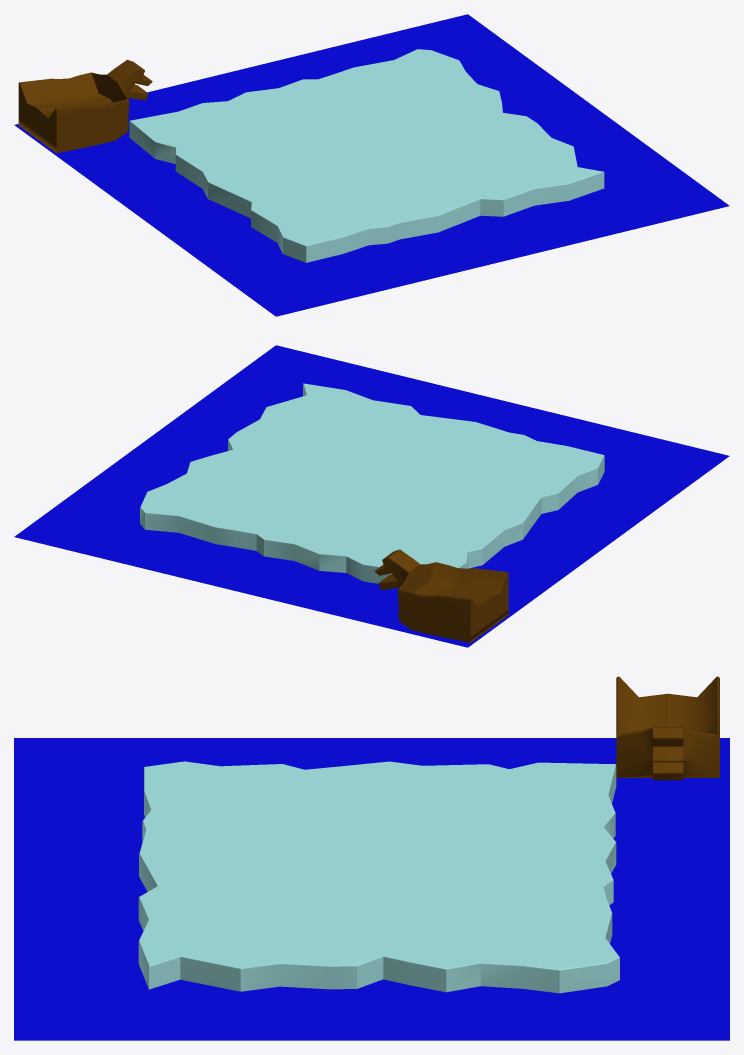
File: Ice_Level.fbx
3 views of the same model, one above another, from view 1: azimuth 30°, elevation 25°; view 2: azimuth 150°, elevation 25°; view 3: azimuth 270°, elevation 25° (orthographic). The views are drawn at different scales.
Visible parts, largest first — view 1: Iceburg, Water_Level_XL, Boat4; view 2: Iceburg, Water_Level_XL, Boat4; view 3: Water_Level_XL, Iceburg, Boat4.
Part boxes in pixels (bbox=[...]): Iceburg: bbox=[129, 49, 604, 262]; Water_Level_XL: bbox=[14, 14, 729, 316]; Boat4: bbox=[18, 59, 152, 153]; Iceburg: bbox=[140, 383, 604, 583]; Water_Level_XL: bbox=[14, 345, 729, 647]; Boat4: bbox=[374, 549, 508, 642]; Water_Level_XL: bbox=[14, 738, 729, 1040]; Iceburg: bbox=[138, 761, 619, 993]; Boat4: bbox=[616, 676, 719, 780].
Size of the model in its own units: 13.95 by 1.6 by 13.95.
